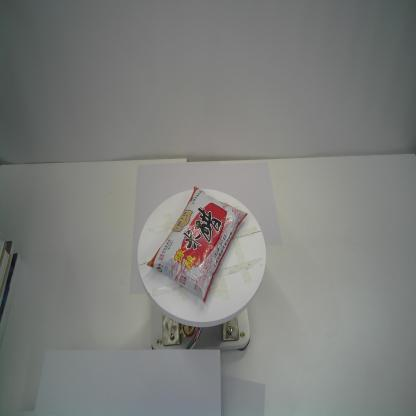Seasoner: (146, 186, 248, 304)
